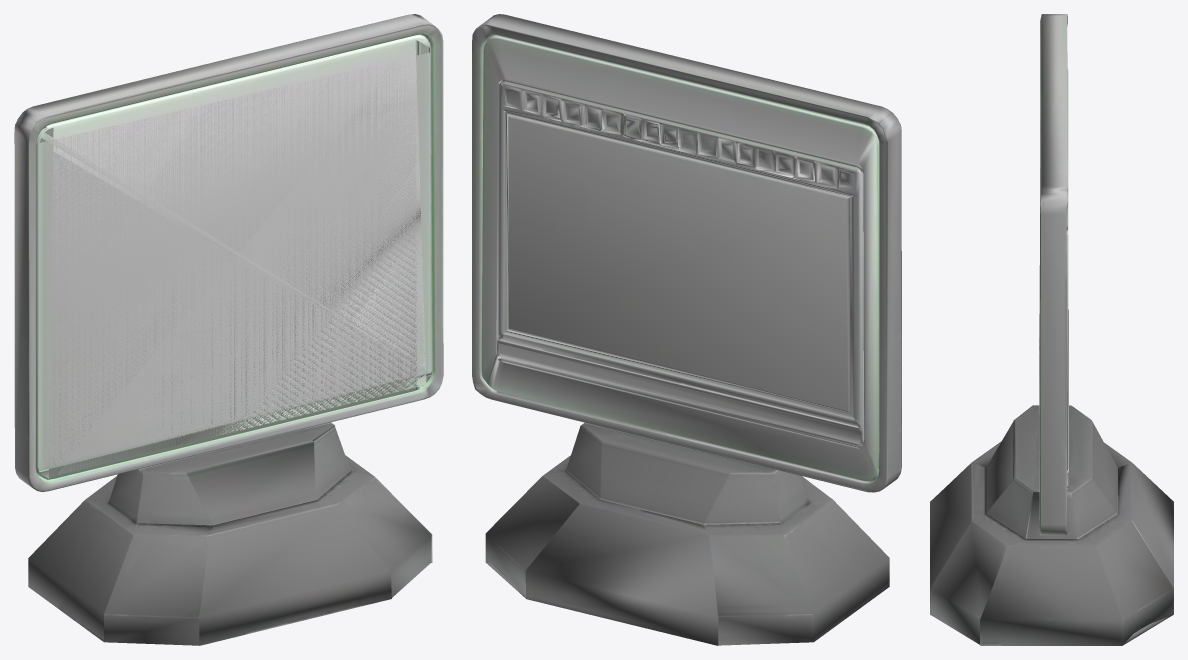
The model's file is dept-sign.glb.
The picture shows the model from 3 angles, left to right: view 1: azimuth 30°, elevation 25°; view 2: azimuth 150°, elevation 25°; view 3: azimuth 270°, elevation 25°; orthographic projection. The views are drawn at different scales.
Size of the model in its own units: 0.813 by 0.9517 by 0.4468.
1 material, 1 textured.
